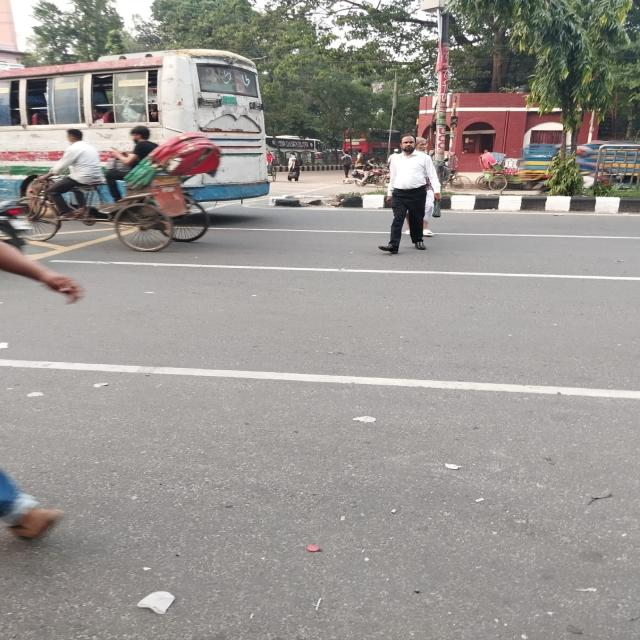person: (378, 134, 441, 254)
